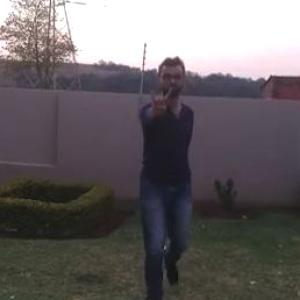takeoff-hand: (146, 84, 176, 121)
